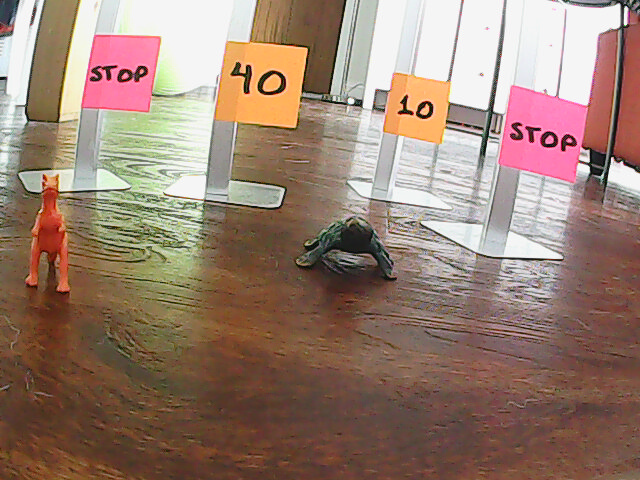10: (392, 85, 441, 138)
40: (221, 51, 299, 123)
dinosaur: (16, 167, 75, 303)
stop: (507, 99, 578, 181), (85, 45, 151, 99)
turtle: (291, 212, 403, 290)
